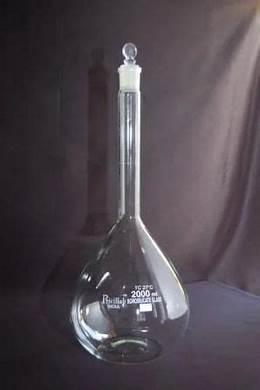Volumetric flask: (59, 29, 189, 363)
